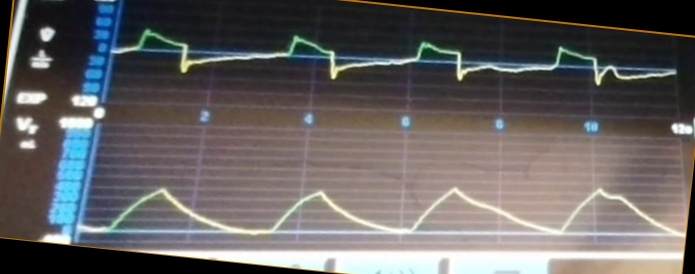Premature_cycling Flow: (115, 25, 675, 100)
Premature_cycling Volume: (81, 176, 682, 242)
